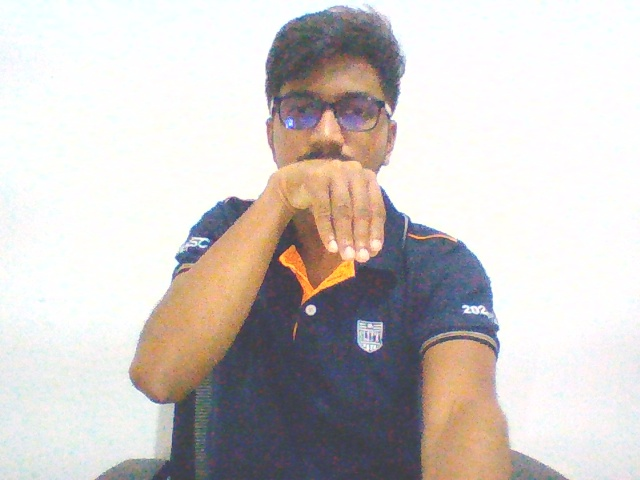Squirrel: (259, 150, 394, 278)
